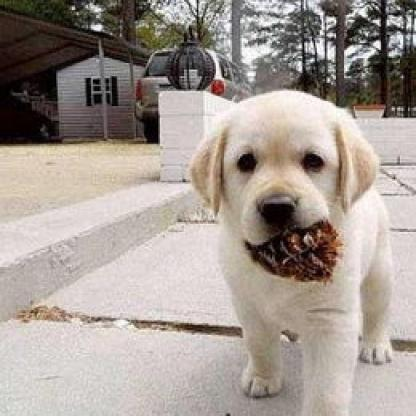Labarador Retriever: (184, 89, 392, 416)
